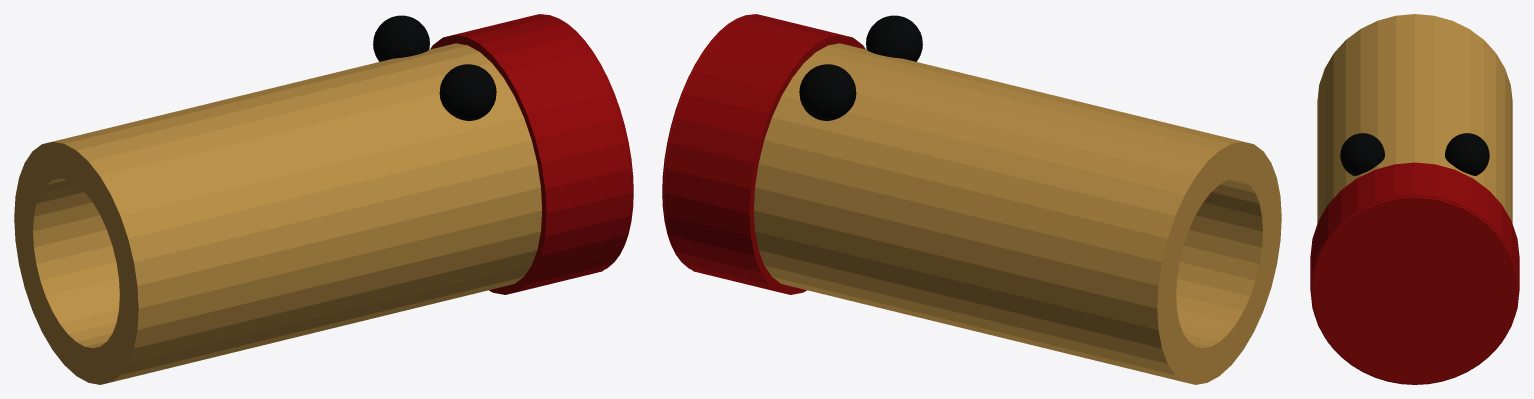
The model's file is Cicadidae_Body.glb.
3 views of the same model, side by side, from view 1: azimuth 30°, elevation 25°; view 2: azimuth 150°, elevation 25°; view 3: azimuth 270°, elevation 25° (orthographic). The views are drawn at different scales.
Parts seen in each view (by area): view 1: Cicadidae_Body, Eye_Right, Eye_Left; view 2: Cicadidae_Body, Eye_Left, Eye_Right; view 3: Cicadidae_Body, Eye_Left, Eye_Right.
Part boxes in pixels (<box>): Cicadidae_Body: <box>14,14,633,384</box>; Eye_Right: <box>439,64,496,120</box>; Eye_Left: <box>373,15,429,61</box>; Cicadidae_Body: <box>662,14,1281,384</box>; Eye_Left: <box>799,64,856,120</box>; Eye_Right: <box>866,15,922,61</box>; Cicadidae_Body: <box>1310,14,1519,384</box>; Eye_Left: <box>1445,133,1489,175</box>; Eye_Right: <box>1340,133,1384,175</box>.
Bounding box in the file's own units: 1.96 × 0.9686 × 0.92.
3 materials, 3 textured.
